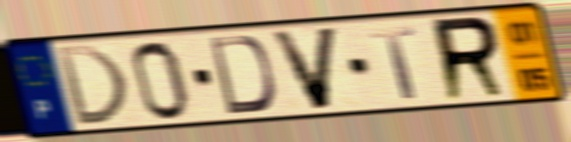0: (128, 38, 193, 122)
D: (53, 43, 132, 128), (206, 33, 278, 117)
R: (429, 13, 512, 105)
T: (366, 24, 420, 101)
V: (266, 24, 343, 113)
